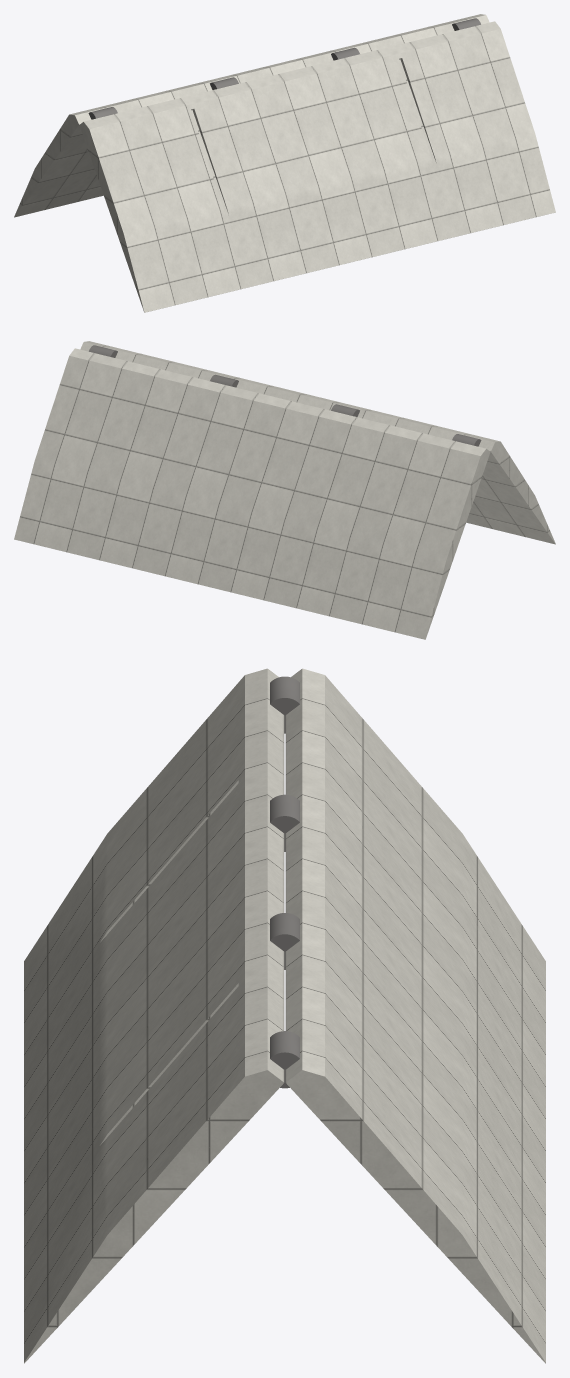
File: ax_aero_24_csr_rudder_brake_m_open.glb
3 views of the same model, one above another, from view 1: azimuth 30°, elevation 25°; view 2: azimuth 150°, elevation 25°; view 3: azimuth 270°, elevation 25° (orthographic). The views are drawn at different scales.
Visible parts, largest first — view 1: surface_upper, surface_lower, hinge_fittings; view 2: surface_lower, surface_upper, hinge_fittings; view 3: surface_upper, surface_lower, hinge_fittings.
Part boxes in pixels (x1,y1,x2,y2): surface_upper: [79, 21, 555, 312]; surface_lower: [14, 14, 489, 217]; hinge_fittings: [88, 18, 480, 119]; surface_lower: [14, 348, 490, 639]; surface_upper: [80, 341, 555, 544]; hinge_fittings: [89, 345, 481, 446]; surface_upper: [24, 668, 284, 1363]; surface_lower: [285, 668, 545, 1363]; hinge_fittings: [270, 676, 299, 1088].
Bounding box in the file's own units: 1.88 × 0.6511 × 1.03.
2 materials, 2 textured.
